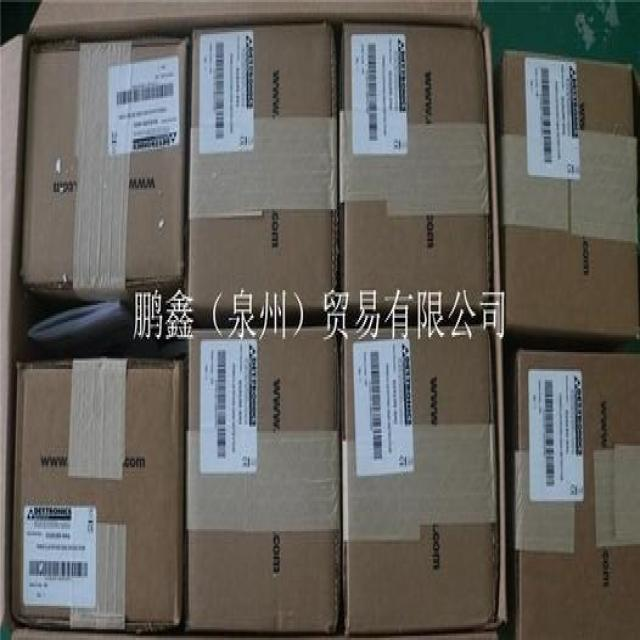box: (339, 326, 498, 638), (187, 328, 338, 631), (13, 359, 181, 629), (22, 40, 188, 311), (335, 24, 489, 315), (190, 24, 337, 318), (492, 52, 635, 351), (504, 351, 639, 638)
